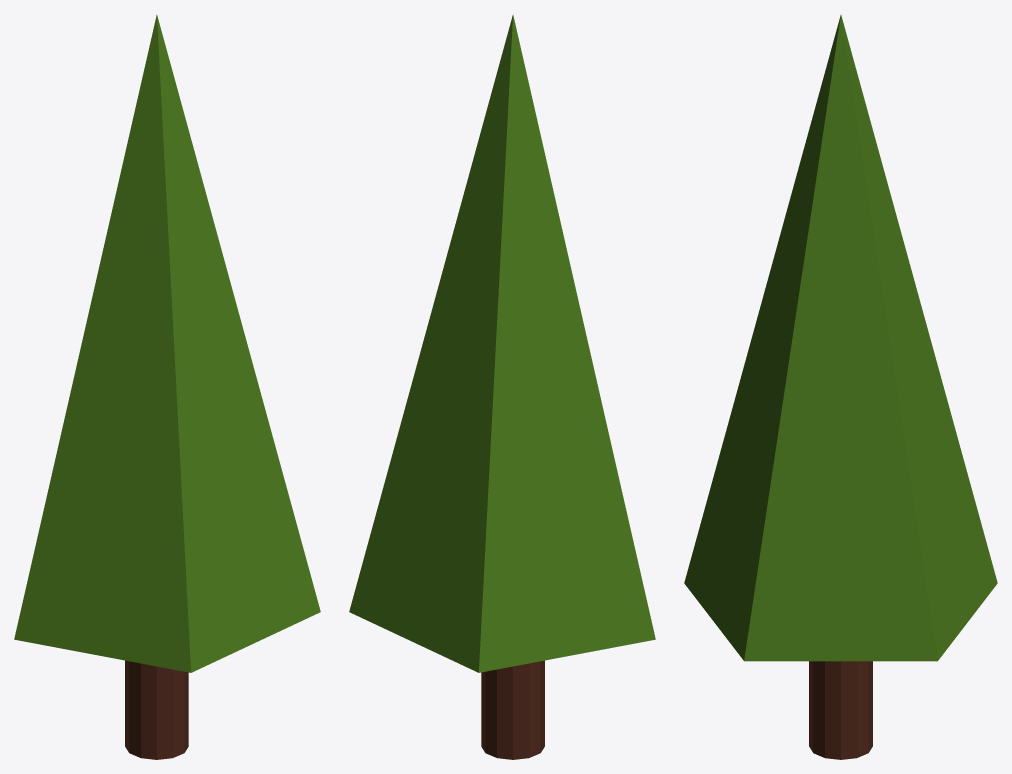
Rendered from tree.fbx.
3 renders of one model, left to right at view 1: azimuth 30°, elevation 25°; view 2: azimuth 150°, elevation 25°; view 3: azimuth 270°, elevation 25°, orthographic.
Visible parts, largest first — view 1: Cylinder.002; view 2: Cylinder.002; view 3: Cylinder.002.
Part boxes in pixels (bbox=[...]): Cylinder.002: bbox=[14, 14, 320, 759]; Cylinder.002: bbox=[349, 14, 655, 759]; Cylinder.002: bbox=[684, 15, 997, 759].
Bounding box in the file's own units: 181 × 490 × 190.
